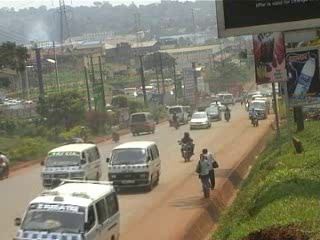Car: (187, 109, 212, 131), (204, 105, 222, 123), (211, 99, 226, 113)
Motorcycle: (176, 137, 195, 163), (0, 160, 8, 183), (250, 113, 260, 128), (171, 115, 180, 130), (111, 128, 119, 144), (223, 110, 231, 123), (244, 101, 251, 112)
